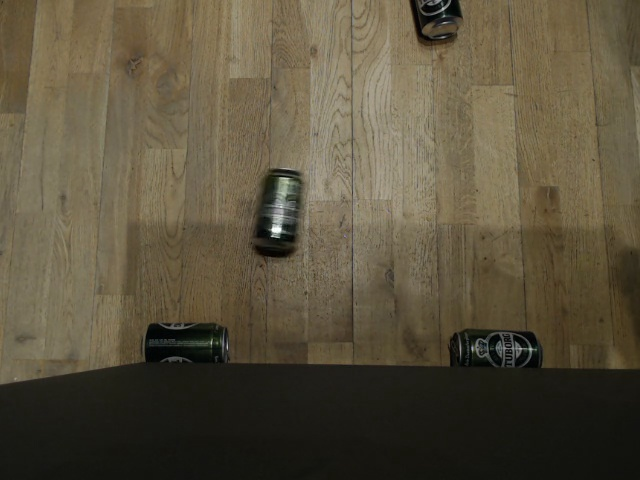beer: (251, 165, 303, 256)
